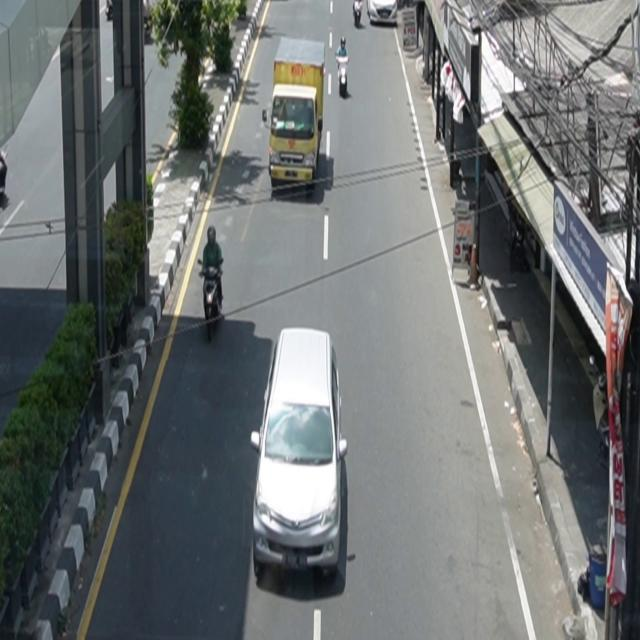car: (251, 328, 349, 583), (368, 1, 399, 26)
truck: (263, 37, 327, 190)
